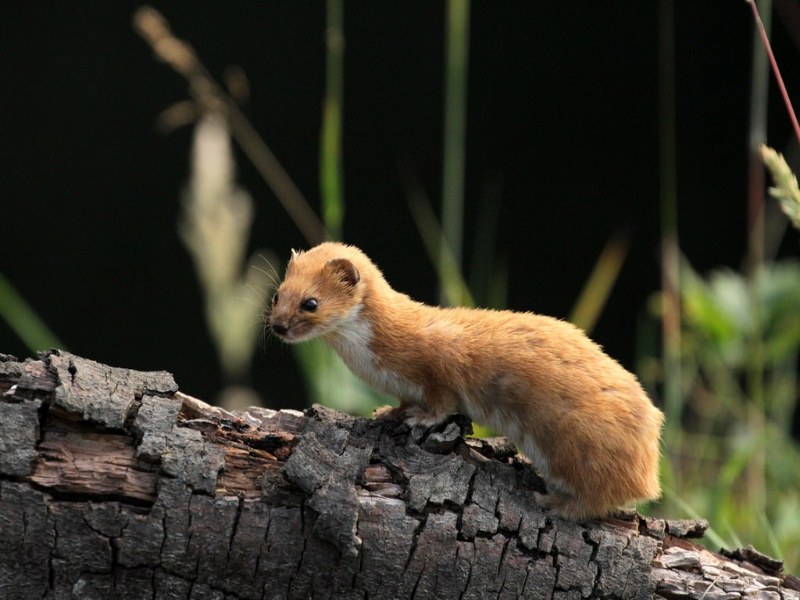minkish: (265, 241, 679, 527)
